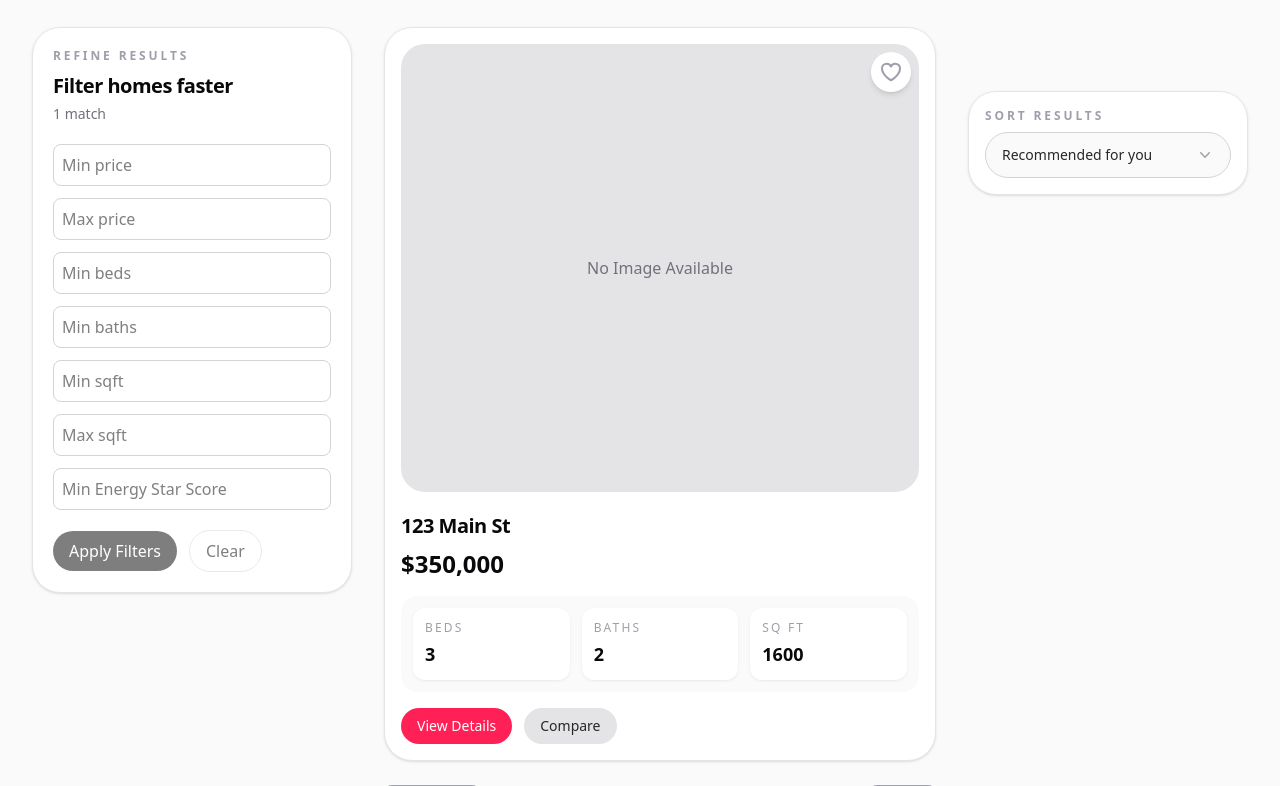
Test case: ListingsPage › toggles the current listing comparison state
This screenshot has width=1280, height=786.
Click the button "Compare": [570, 726] box left=524, top=708, right=616, bottom=744
(page scrolled)
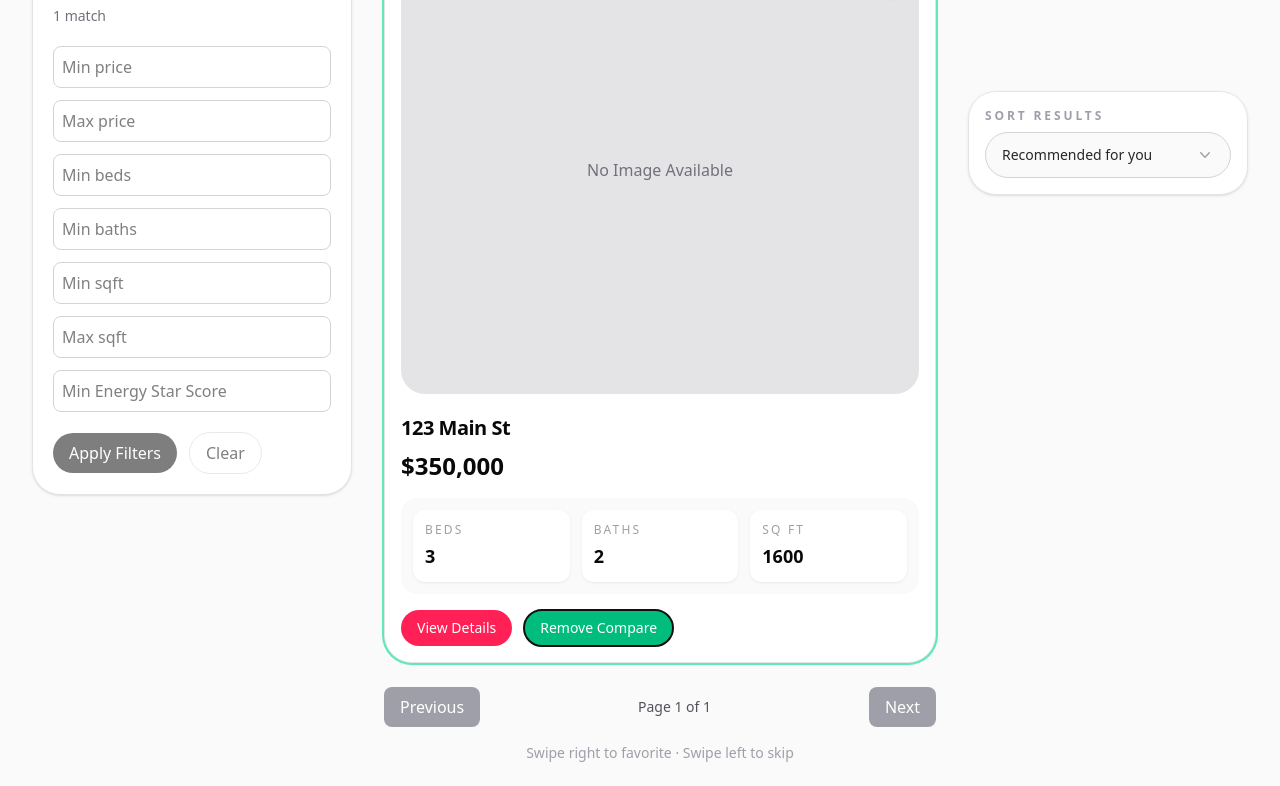
Expected: the button "Remove Compare" is shown
Click the button "Remove Compare": [599, 628] box left=524, top=610, right=673, bottom=646
(page scrolled)
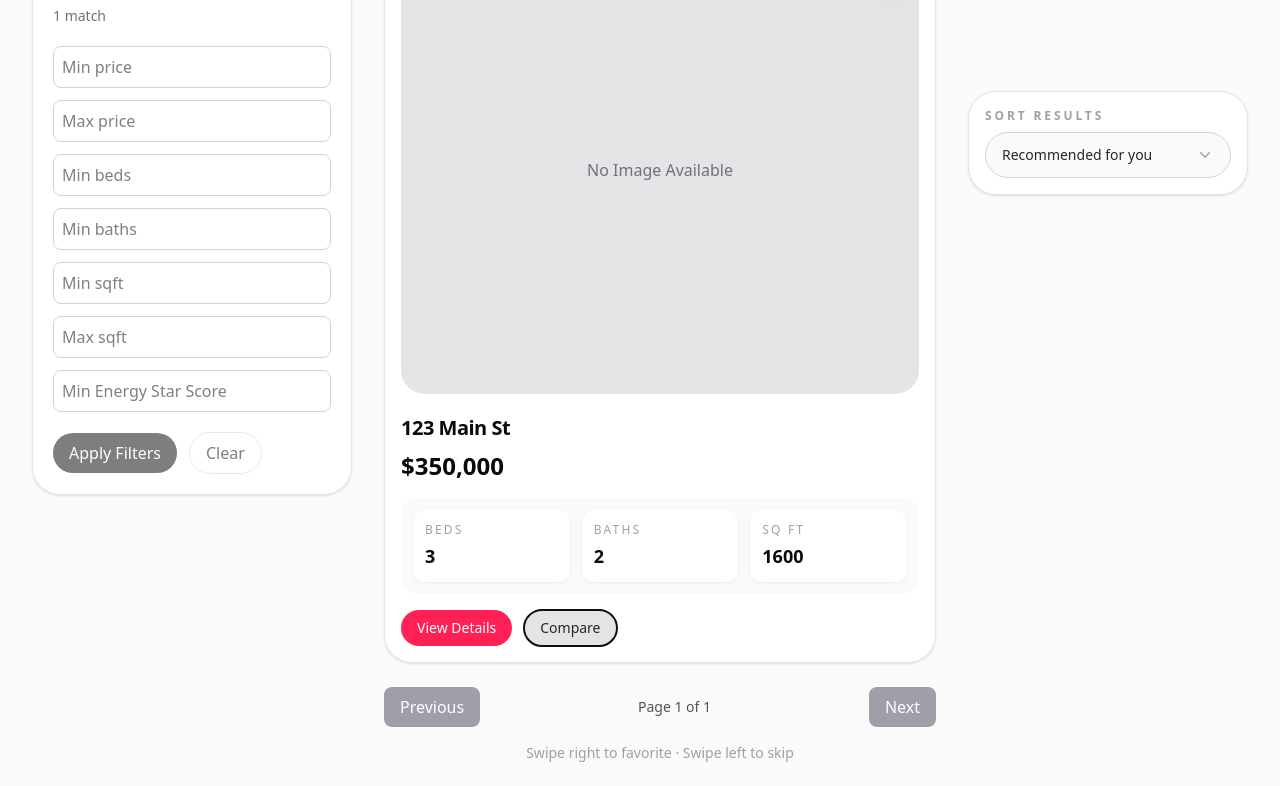
Expected: the button "Compare" is shown, left=524, top=610, right=616, bottom=646
